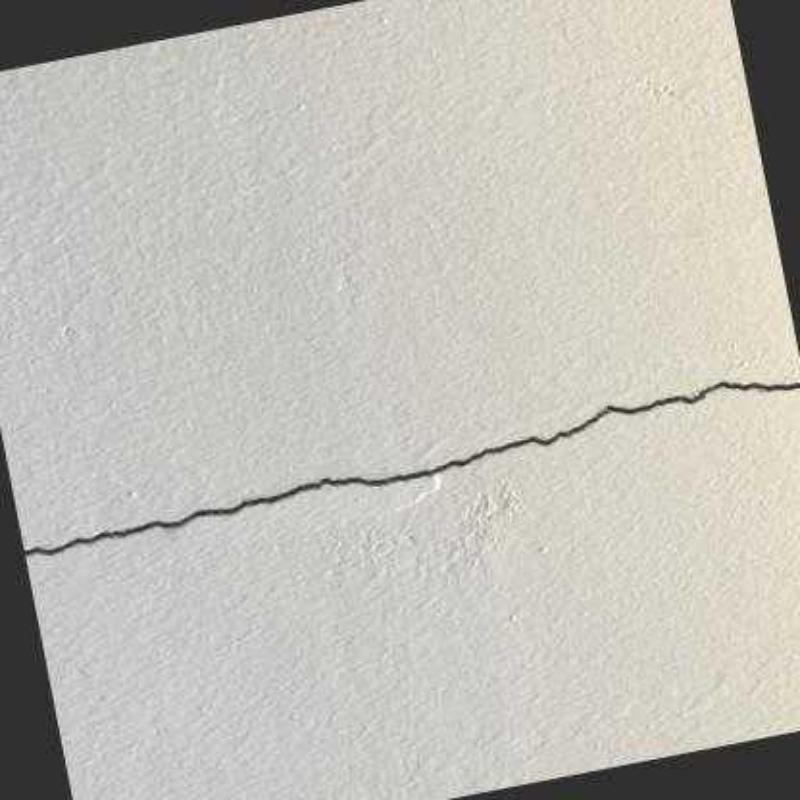crack: (21, 380, 800, 557)
